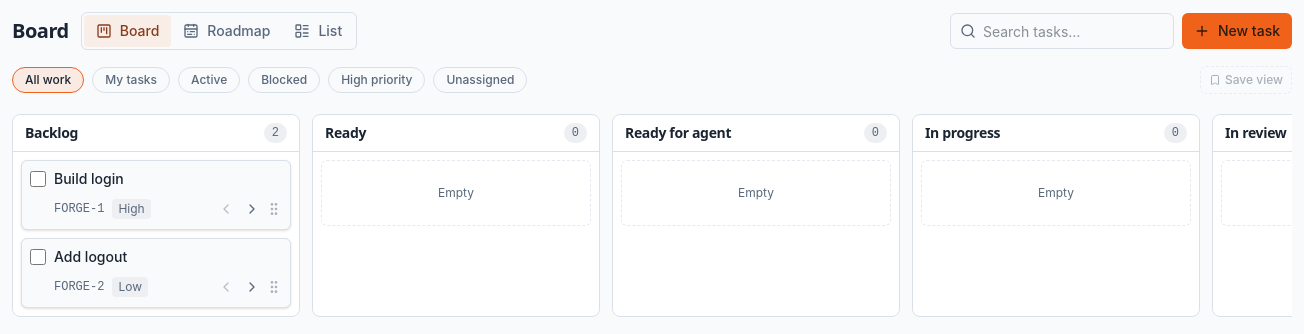
Test: BoardDepth › filters by the search box
The width and height of the screenshot is (1304, 334).
Expected: the element with test id "card-t1" is shown, [21,160,291,230]
Type "login" into the field labelled "Search tasks…" at (1062,31), box [950,13,1174,49]
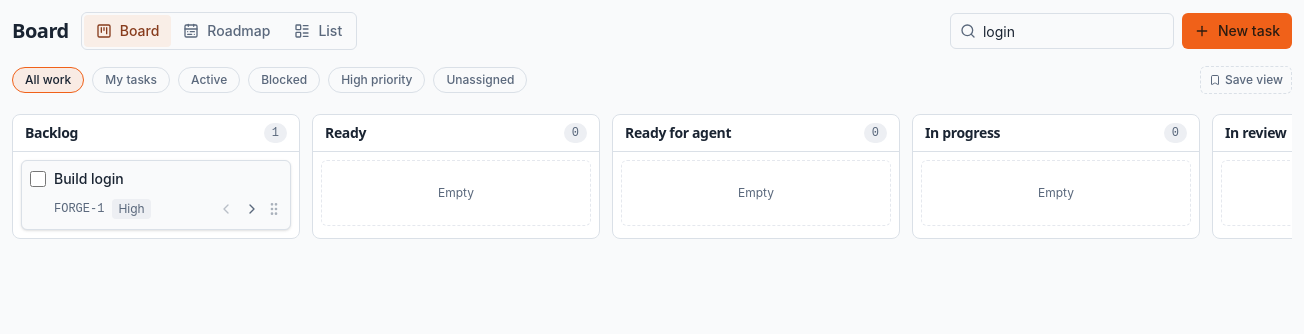
Expected: the text "Build login" is shown, [54,170,124,187]
Expected: the text "Add logout" is gone
